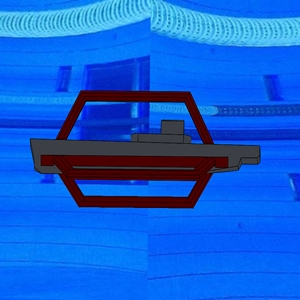submarine: (28, 88, 264, 213)
